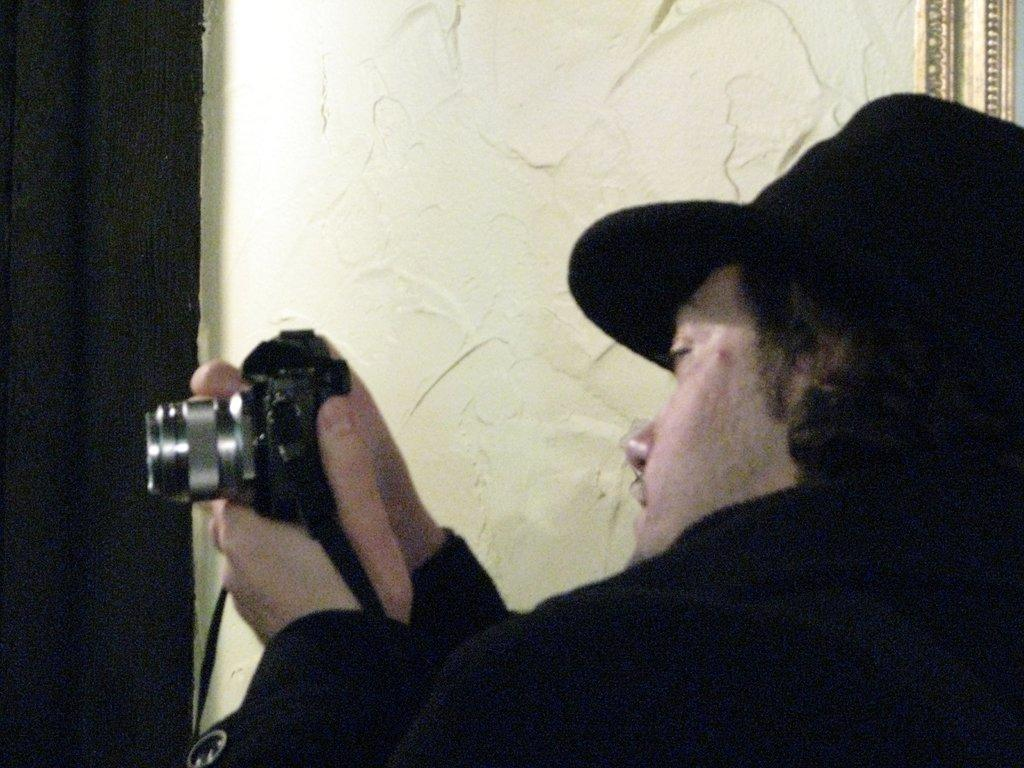Hat: (565, 93, 1023, 373)
